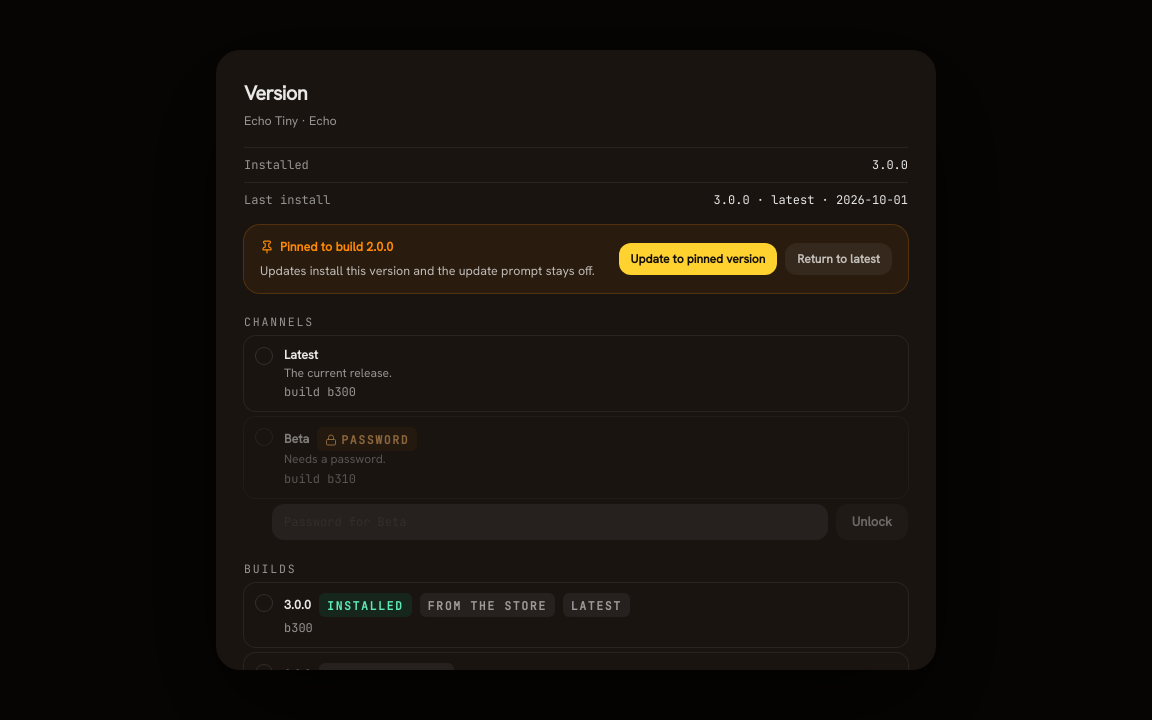
Test: Pinned game › says what it is pinned to and returns to latest
The width and height of the screenshot is (1152, 720).
Check: the text "update prompt stays off" is shown, box [260,262,595,279]
Click the button "Return to latest" at (839, 259), box [785,243,892,275]
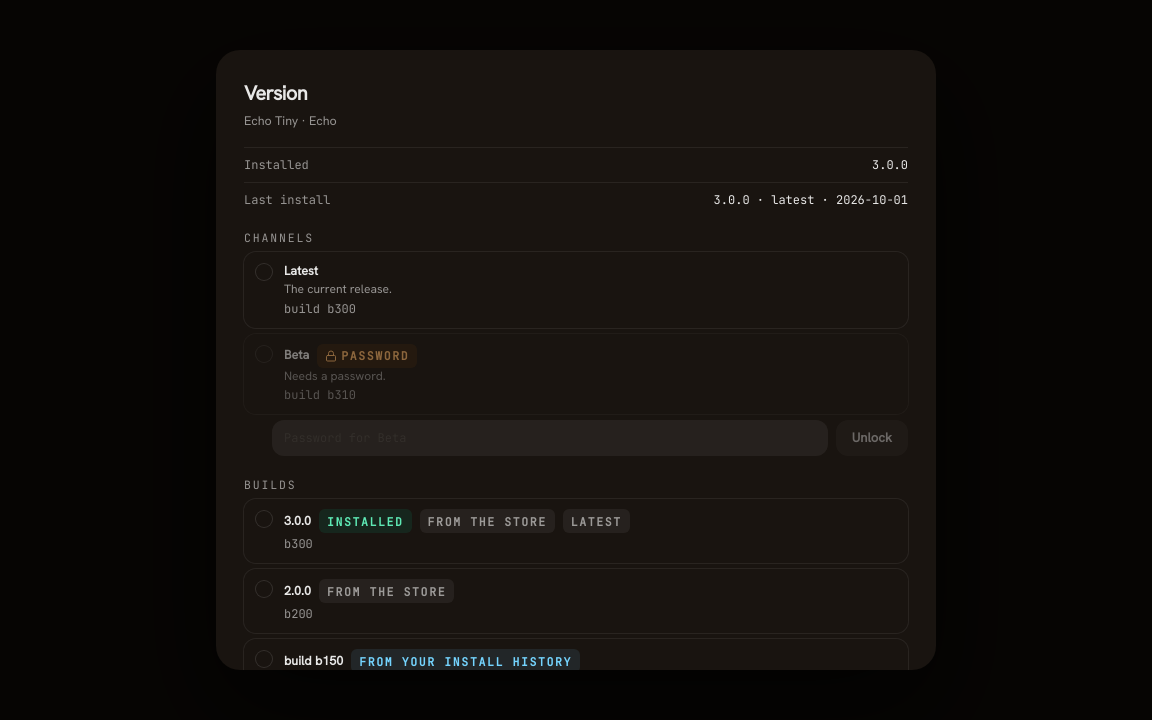
Check: the text "Pinned to" is gone
